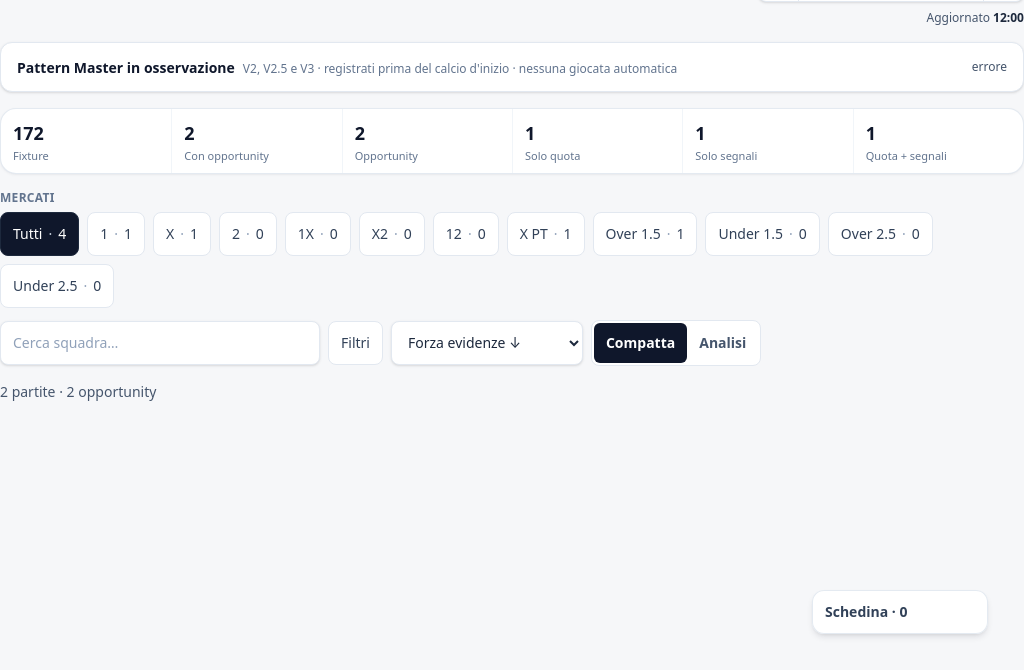
it: BetBuilderPage › mostra Goal Intensity official e fallback in analysis
The width and height of the screenshot is (1024, 670).
What coordinates should you click on to do the following:
click the button with test id "view-mode-analysis"
I would click on:
 (723, 343)
Its box is [687,323,758,363].
(page scrolled)
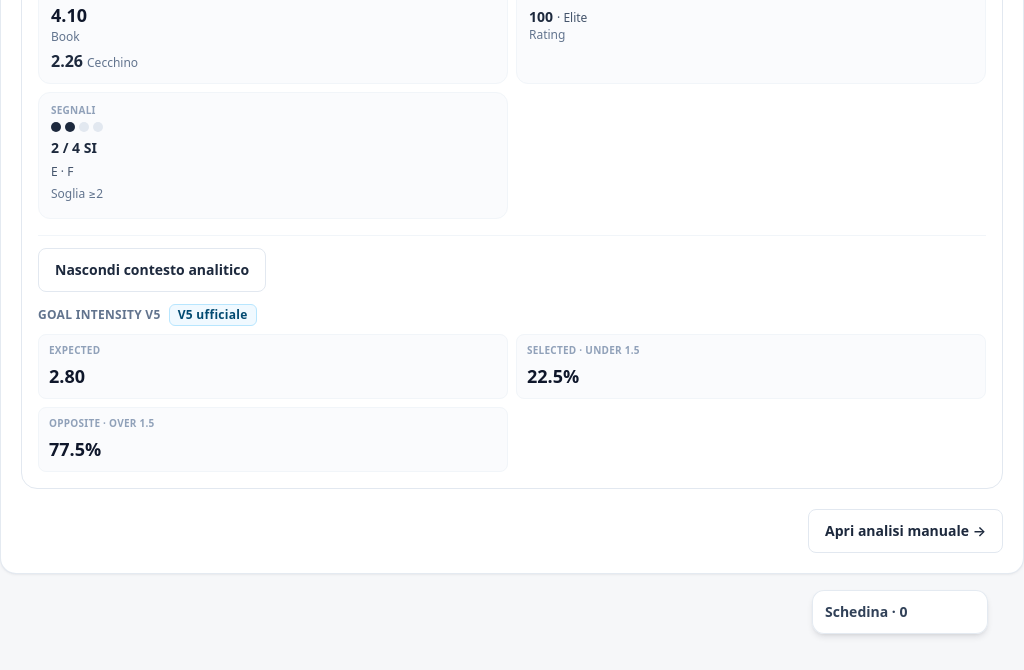
Now the text "V5 ufficiale" is shown, box [169,304,257,326]
Now the text "2.80" is shown, box [49,364,85,388]
